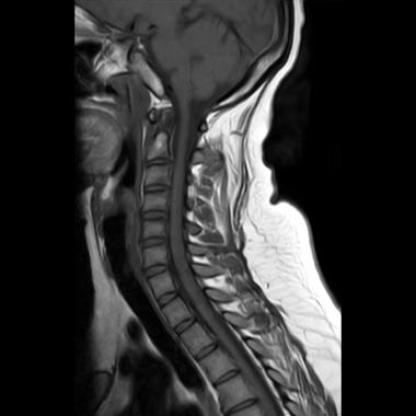Degenerative Disc Diseaserotation: (140, 234, 170, 252), (141, 209, 171, 224)
Disc Bulgerotation: (141, 234, 170, 251), (142, 209, 171, 223), (144, 181, 169, 194), (145, 157, 169, 170)
Osteophytesrotation: (140, 234, 170, 252)
